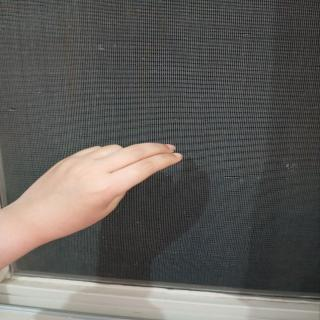ZAY: (10, 132, 198, 247)
